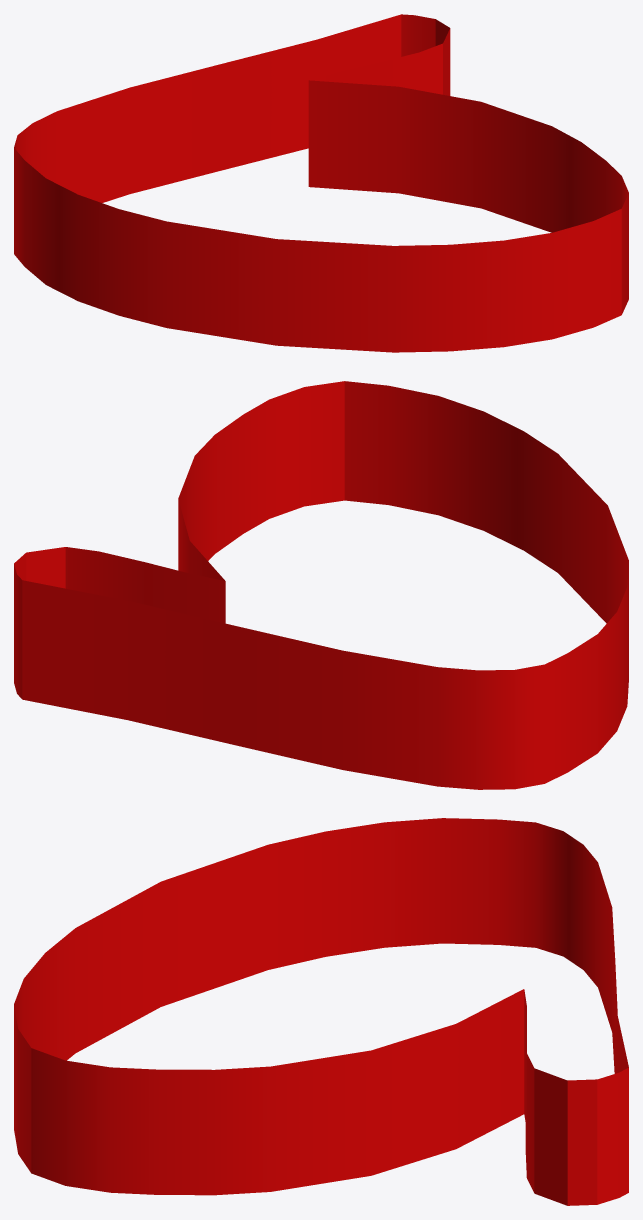
File: original-74.obj
The picture shows the model from 3 angles, top to bottom: view 1: azimuth 30°, elevation 25°; view 2: azimuth 150°, elevation 25°; view 3: azimuth 270°, elevation 25°; orthographic projection. The views are drawn at different scales.
Parts seen in each view (by area): view 1: #ID126; view 2: #ID126; view 3: #ID126.
Boxes of the visible parts, box(x1,y1,x2,y2) form: #ID126: box(14, 14, 628, 352); #ID126: box(14, 381, 628, 789); #ID126: box(14, 818, 628, 1205).
Bounding box in the file's own units: 0.0079 × 0.00176 × 0.00782.
